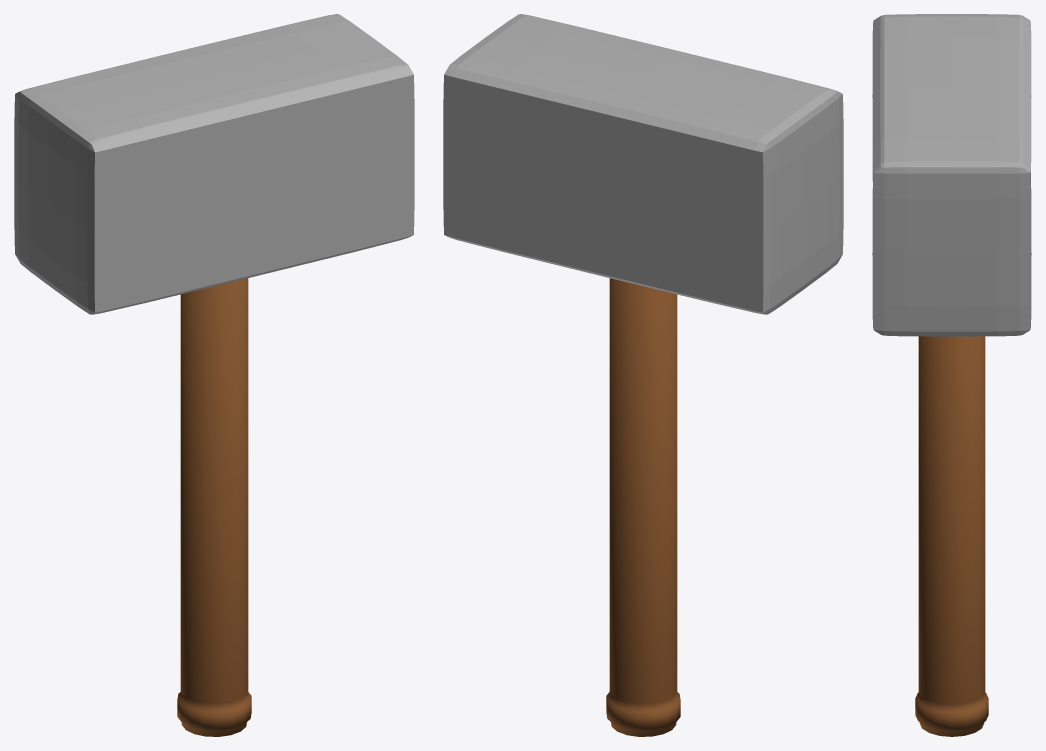
The model's file is hammer.fbx.
The picture shows the model from 3 angles, left to right: view 1: azimuth 30°, elevation 25°; view 2: azimuth 150°, elevation 25°; view 3: azimuth 270°, elevation 25°; orthographic projection.
Parts seen in each view (by area): view 1: Hammer; view 2: Hammer; view 3: Hammer.
Boxes of the visible parts, bbox=[...] form: Hammer: bbox=[14, 14, 414, 736]; Hammer: bbox=[443, 14, 843, 736]; Hammer: bbox=[872, 14, 1031, 736].
Bounding box in the file's own units: 1.7 × 3.23 × 0.7329.
